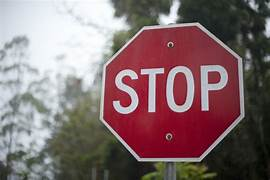stop: (97, 23, 245, 161)
